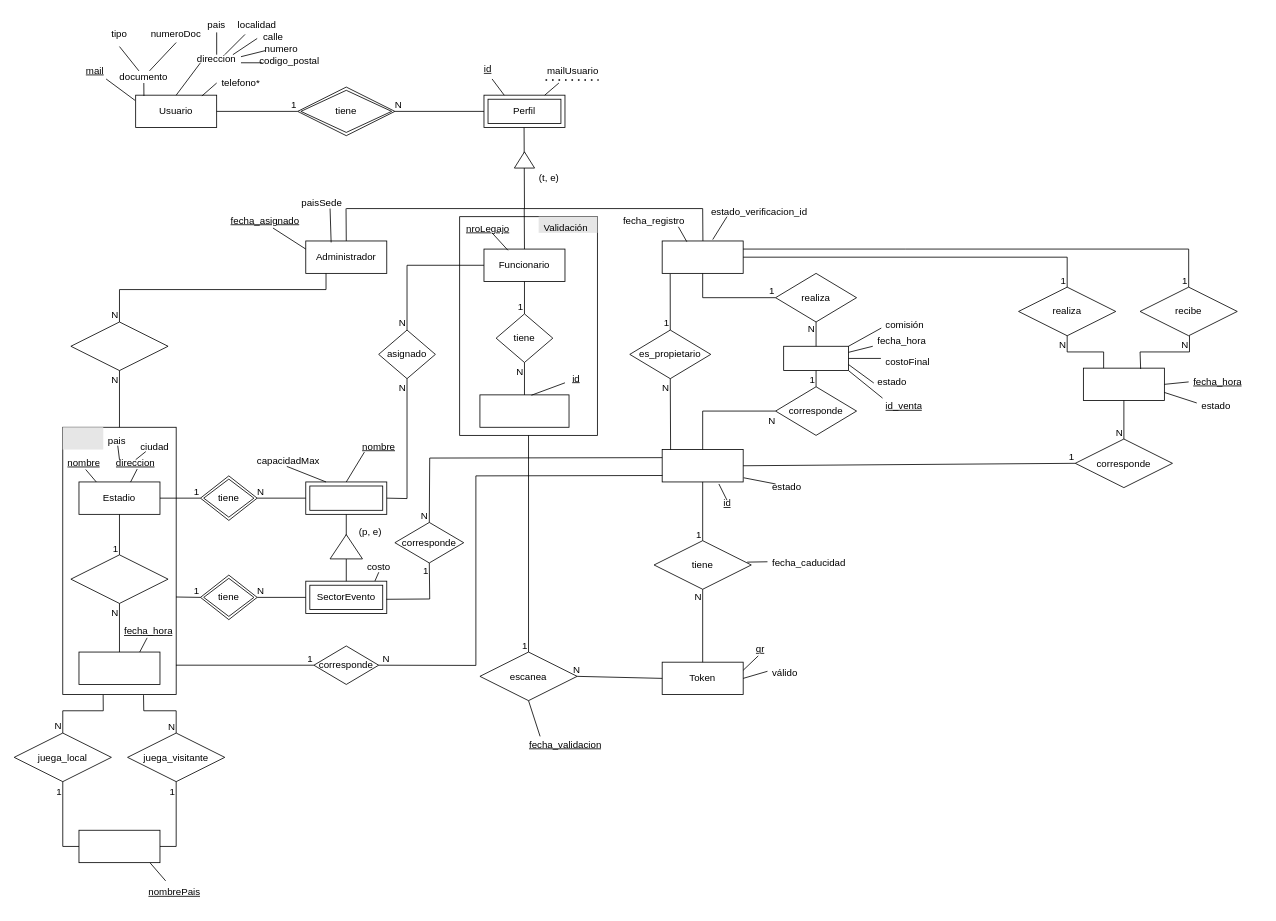
Image size: 1276x921. Some labels were removed from this diagram. Each missing label, with the centre of its shape:
"DispositivoEscaneo" belongs at [524,410].
"Entrada" belongs at [702,465].
"Equipo" belongs at [119,846].
"es" belongs at [345,546].
"Evento" belongs at [82,438].
"General" belongs at [702,256].
"gestiona" belongs at [119,346].
"ocurre" belongs at [119,578].
"Partido" belongs at [119,667].
"Sector" belongs at [346,497].
"TransfEntrada" belongs at [1123,384].
"Venta" belongs at [815,358].
